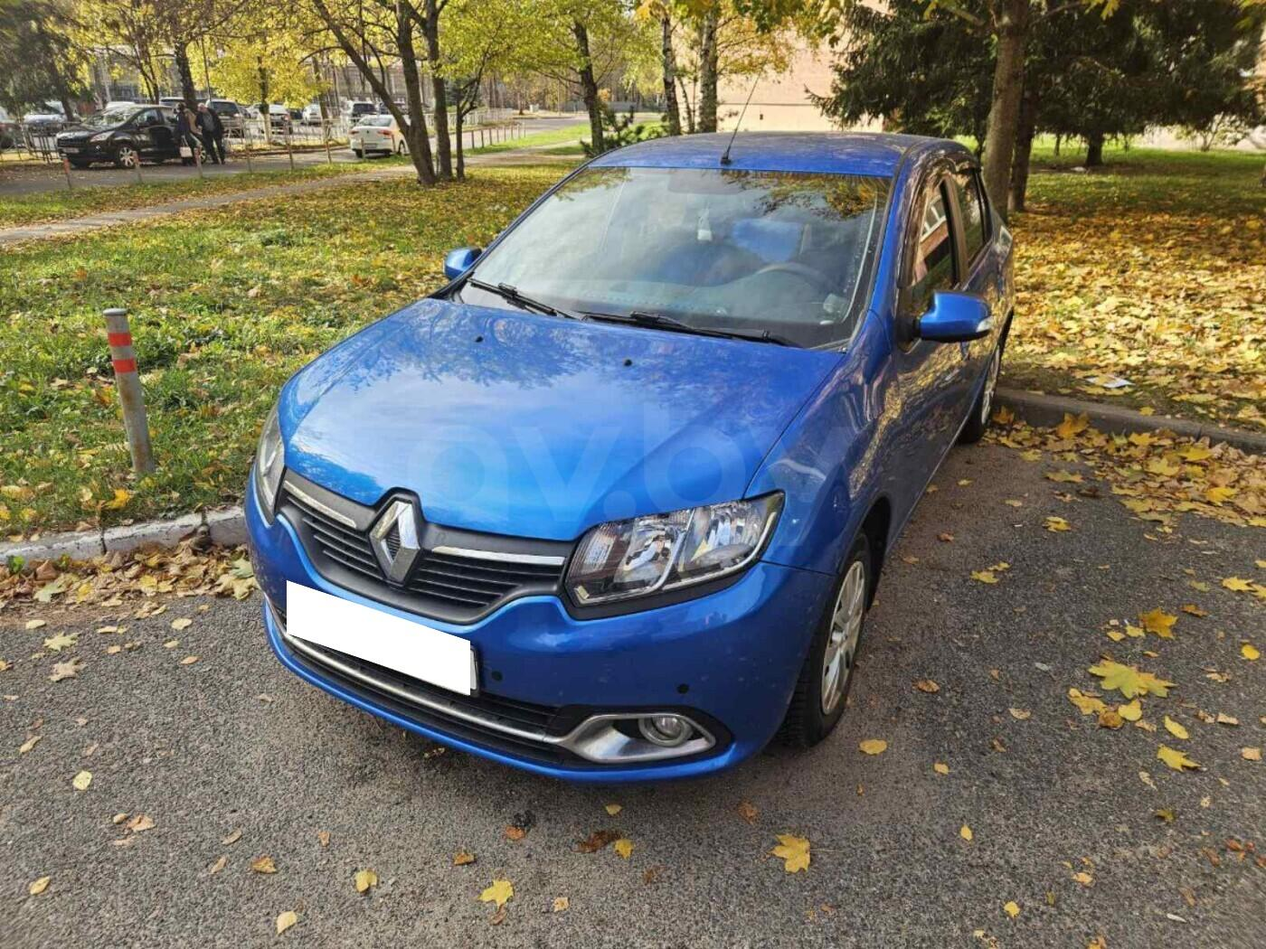Logan_2013-2018: (247, 115, 1037, 785)
